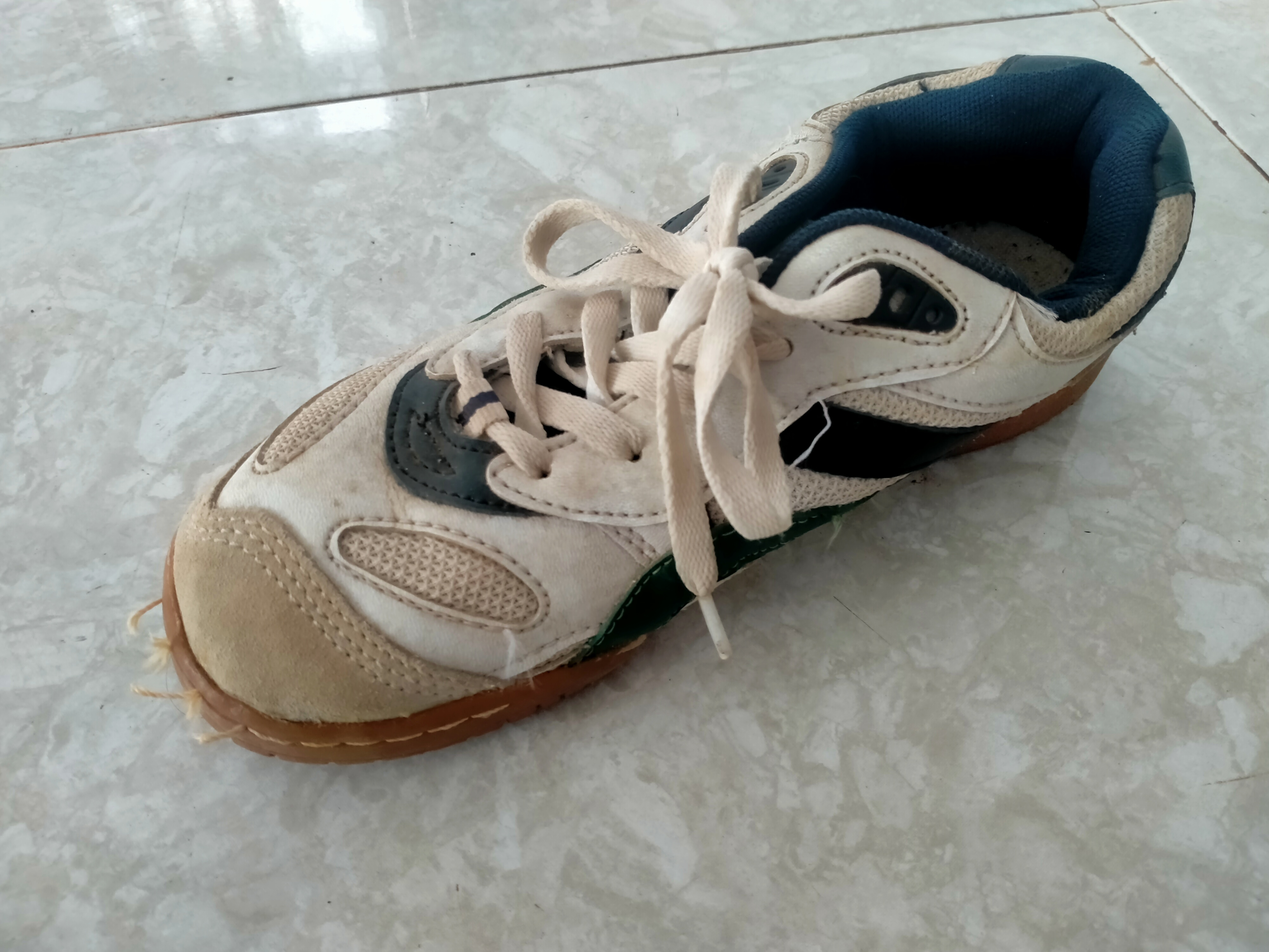broken: (159, 634, 257, 743), (774, 387, 820, 428)
